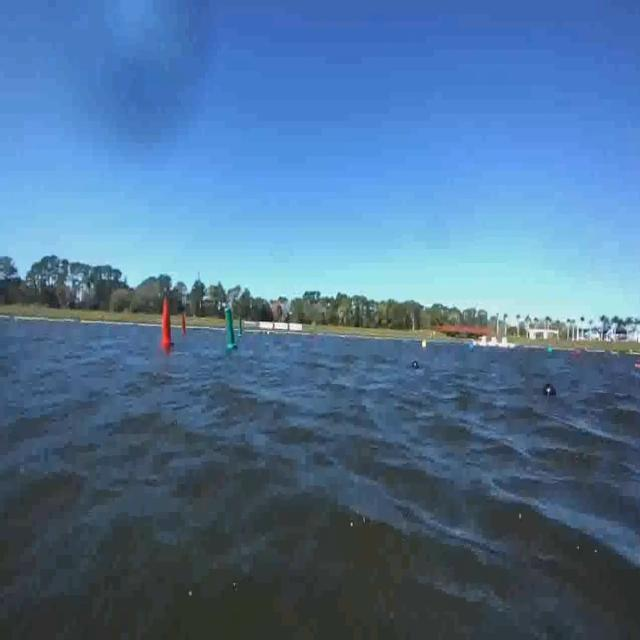black-buoy: (541, 379, 559, 402), (411, 359, 420, 371)
green-column-buoy: (225, 307, 239, 350)
red-column-buoy: (160, 297, 174, 347), (180, 312, 188, 334), (183, 314, 190, 337)
yellow-buoy: (422, 338, 428, 352)
